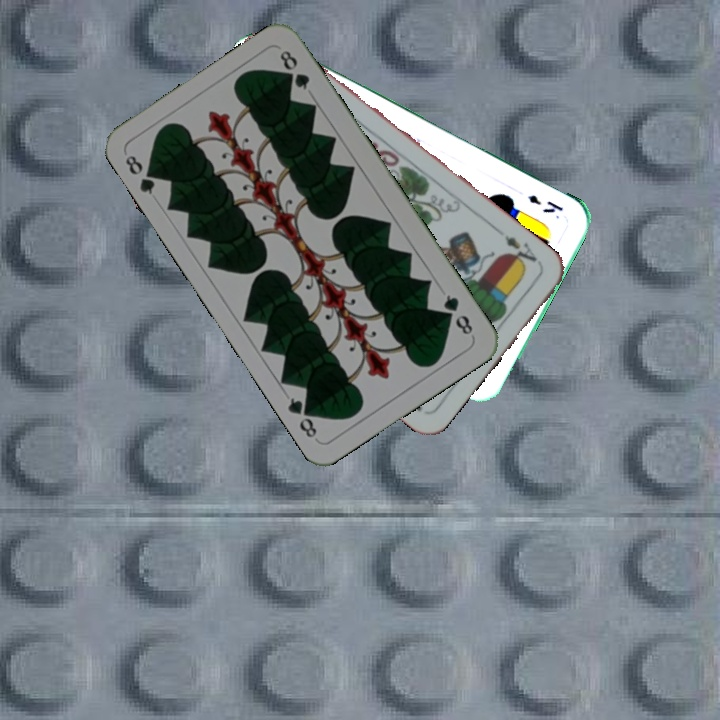EA: (500, 231, 544, 271)
EK: (523, 190, 565, 216)
G8: (439, 290, 476, 340), (121, 151, 161, 197)
